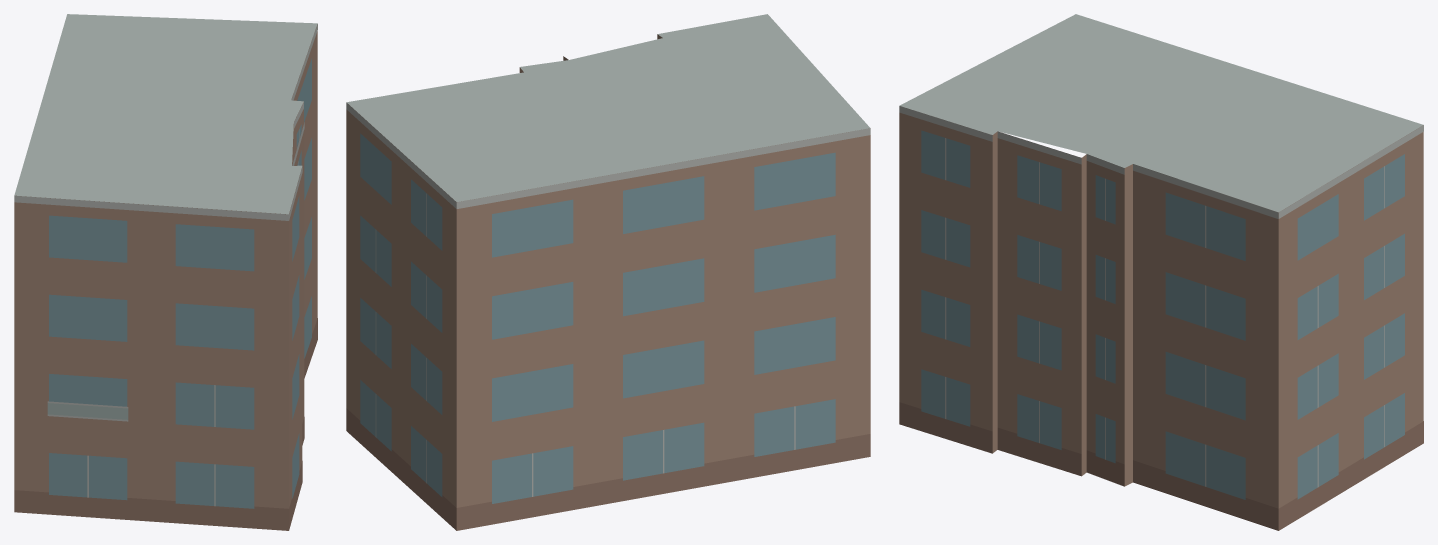
The model's file is survey-upis-32586221.glb.
3 views of the same model, side by side, from view 1: azimuth 30°, elevation 25°; view 2: azimuth 150°, elevation 25°; view 3: azimuth 270°, elevation 25° (orthographic). The views are drawn at different scales.
Parts seen in each view (by area): view 1: survey-upis-32586221.tmp; view 2: survey-upis-32586221.tmp; view 3: survey-upis-32586221.tmp.
Boxes of the visible parts, x1=… form: survey-upis-32586221.tmp: x1=14, y1=14, x2=317, y2=530; survey-upis-32586221.tmp: x1=346, y1=14, x2=870, y2=530; survey-upis-32586221.tmp: x1=899, y1=14, x2=1423, y2=530.
Size of the model in its own units: 15.37 by 11.5 by 17.17.
